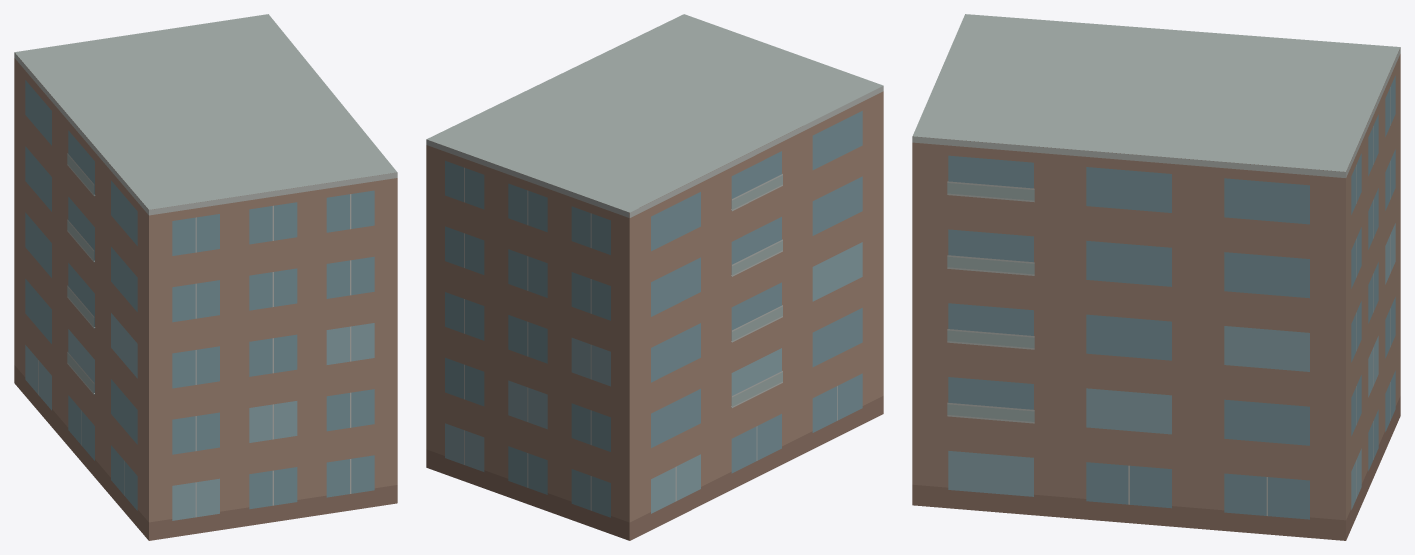
Rendered from survey-upis-32528252.glb.
3 views of the same model, side by side, from view 1: azimuth 30°, elevation 25°; view 2: azimuth 150°, elevation 25°; view 3: azimuth 270°, elevation 25° (orthographic). The views are drawn at different scales.
Visible parts, largest first — view 1: survey-upis-32528252.tmp; view 2: survey-upis-32528252.tmp; view 3: survey-upis-32528252.tmp.
Boxes of the visible parts, left/top/right/bottom form: survey-upis-32528252.tmp: left=14, top=14, right=397, bottom=540; survey-upis-32528252.tmp: left=426, top=14, right=883, bottom=540; survey-upis-32528252.tmp: left=912, top=14, right=1400, bottom=540.
Size of the model in its own units: 13.23 by 14.4 by 17.27.
